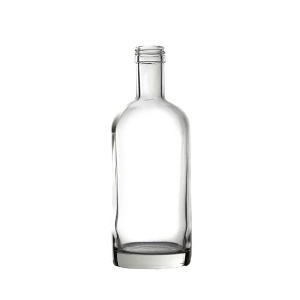emptybottle: (112, 46, 192, 268)
